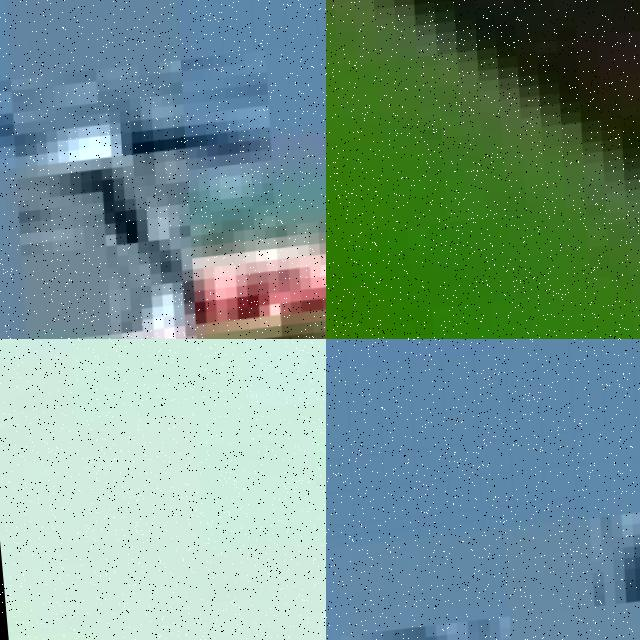drone: (0, 0, 326, 339), (326, 0, 640, 339), (326, 339, 640, 640)
